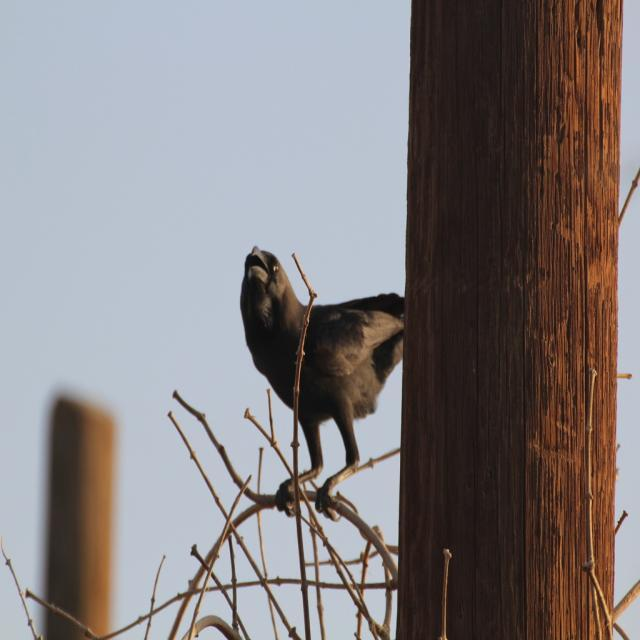bird: (238, 241, 404, 528)
